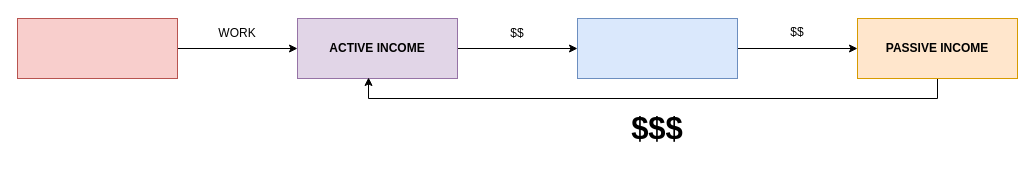
Some shapes in this 1035 by 175 pixel diagram are drawn without their labels. The shapes that lost their labels are listed below. From the top down, each one's centre as x and y in pixels, then its label:
point (97, 48): MAKE ACTIVE INCOME
point (657, 48): INVEST IN PASSIVE INCOME
